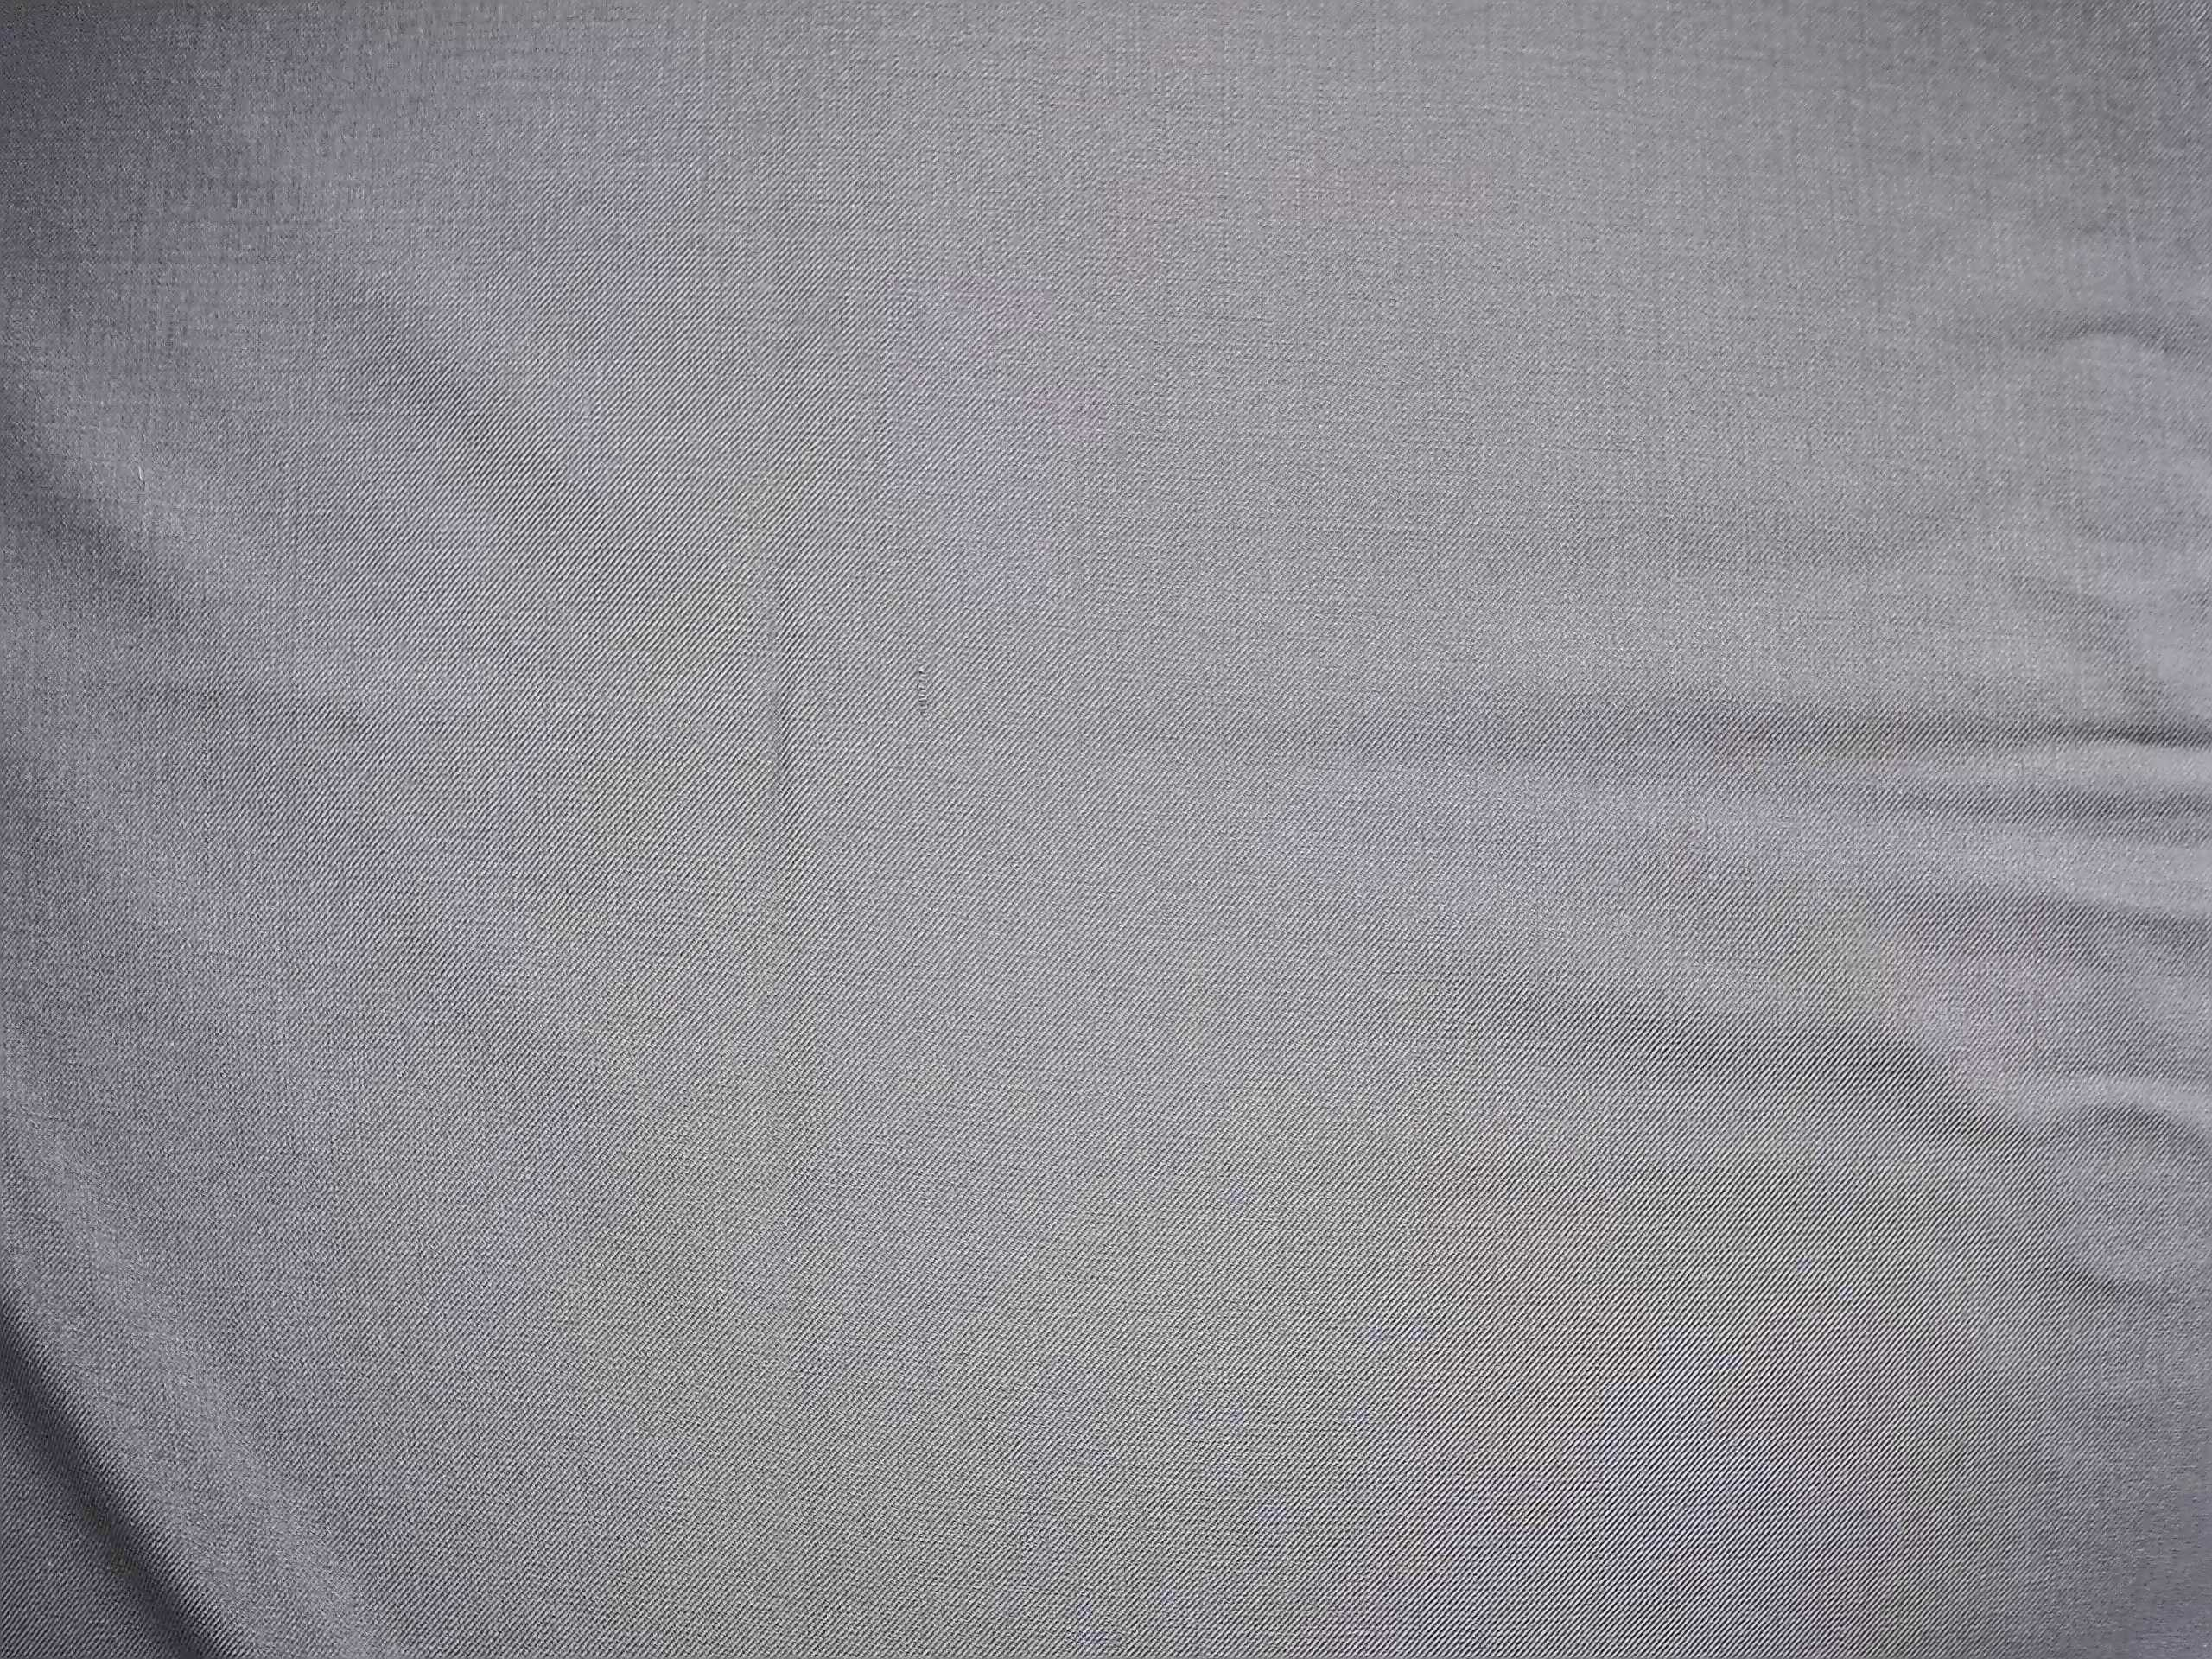others: (892, 645, 958, 742)
